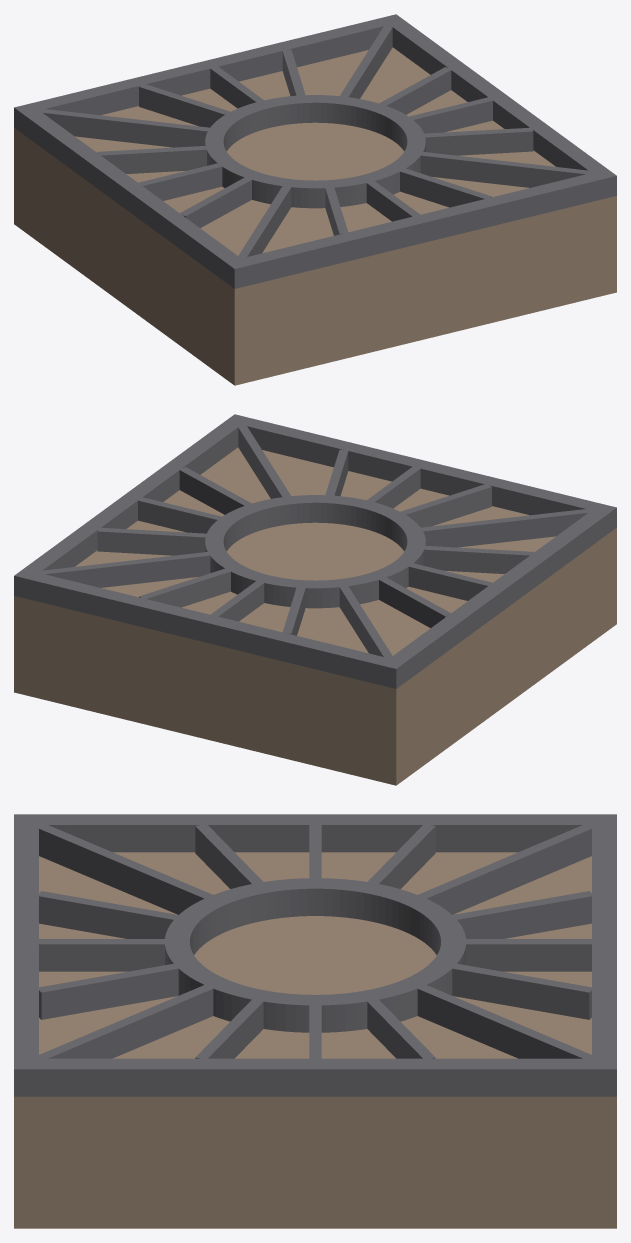
Rendered from tree_grate.glb.
3 views of the same model, one above another, from view 1: azimuth 30°, elevation 25°; view 2: azimuth 150°, elevation 25°; view 3: azimuth 270°, elevation 25° (orthographic). The views are drawn at different scales.
Visible parts, largest first — view 1: tree_grate_mulch, tree_grate_iron; view 2: tree_grate_mulch, tree_grate_iron; view 3: tree_grate_iron, tree_grate_mulch.
Part boxes in pixels (<box>): tree_grate_mulch: <box>14,47,616,385</box>; tree_grate_iron: <box>14,14,616,288</box>; tree_grate_mulch: <box>14,447,616,785</box>; tree_grate_iron: <box>14,414,616,688</box>; tree_grate_iron: <box>14,814,616,1096</box>; tree_grate_mulch: <box>14,852,616,1228</box>.
Size of the model in its own units: 1.2 by 0.35 by 1.2.
